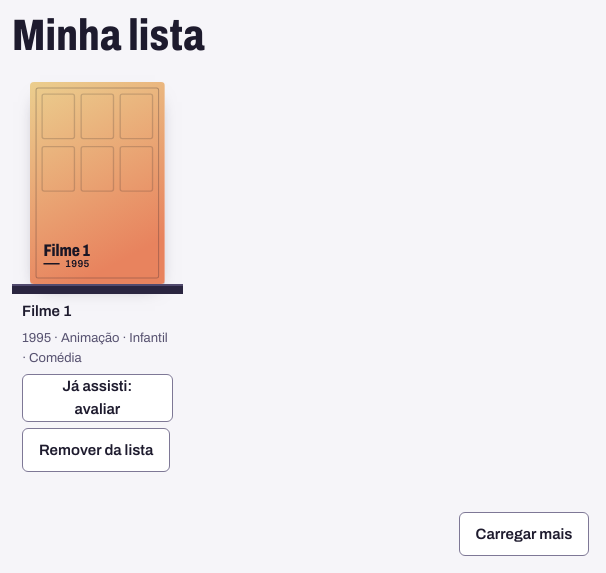
it: MinhaLista › "Carregar mais" pede a página seguinte e acrescenta os filmes
The width and height of the screenshot is (606, 573).
expect the text "Filme 1" is shown: met, box [22,303,72,319]
Click the button "Carregar mais" at (524, 534), box [459,512,589,556]
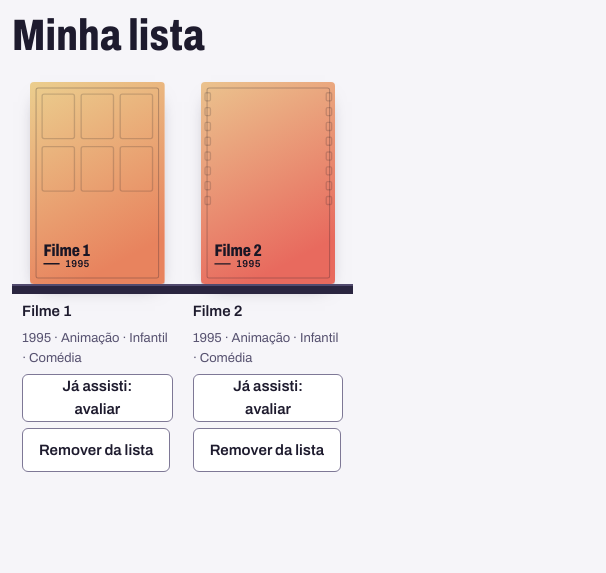
expect the text "Filme 1" is shown: met, box [22,303,72,319]
expect the text "Filme 2" is shown: met, box [193,303,242,319]
expect the button "Carregar mais" is gone: met
